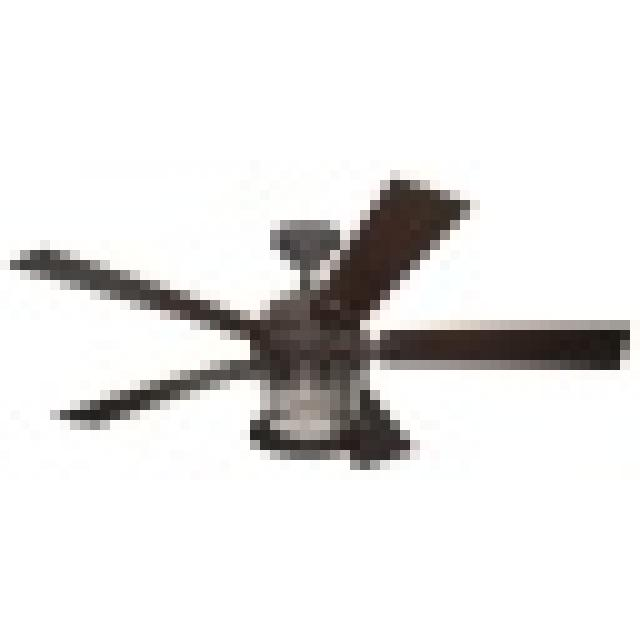Bulb: (21, 154, 635, 490)
